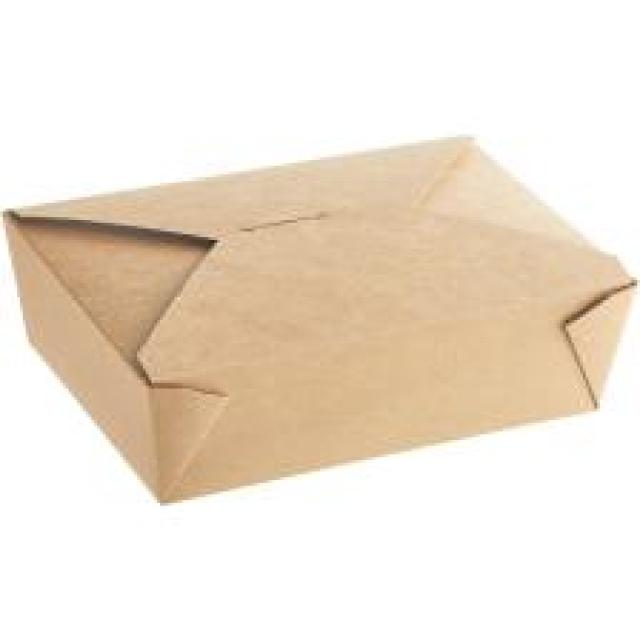box: (0, 135, 640, 506)
